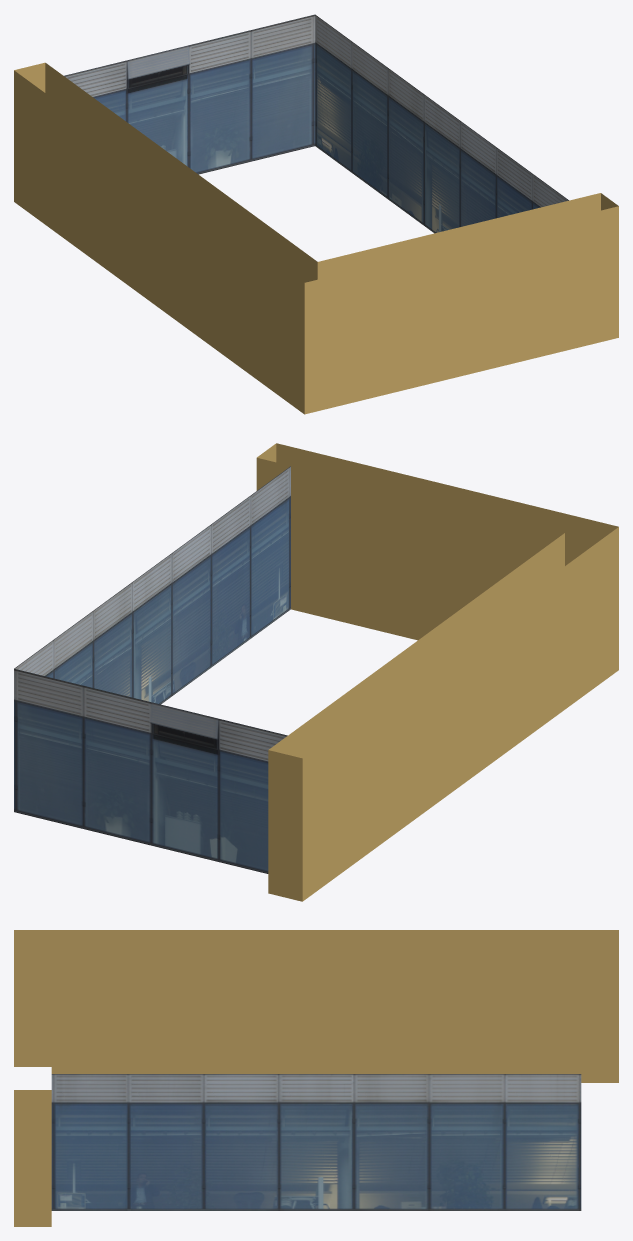
File: Sci-Fi_Tower_Middle_03.fbx
3 renders of one model, top to bottom at view 1: azimuth 30°, elevation 25°; view 2: azimuth 150°, elevation 25°; view 3: azimuth 270°, elevation 25°, orthographic. The views are drawn at different scales.
Parts seen in each view (by area): view 1: Plane.005; view 2: Plane.005; view 3: Plane.005.
Part boxes in pixels (x1,y1,x2,y2): Plane.005: [14, 14, 618, 414]; Plane.005: [14, 443, 618, 901]; Plane.005: [14, 930, 618, 1226].
Size of the model in its own units: 7.5 by 3 by 12.
